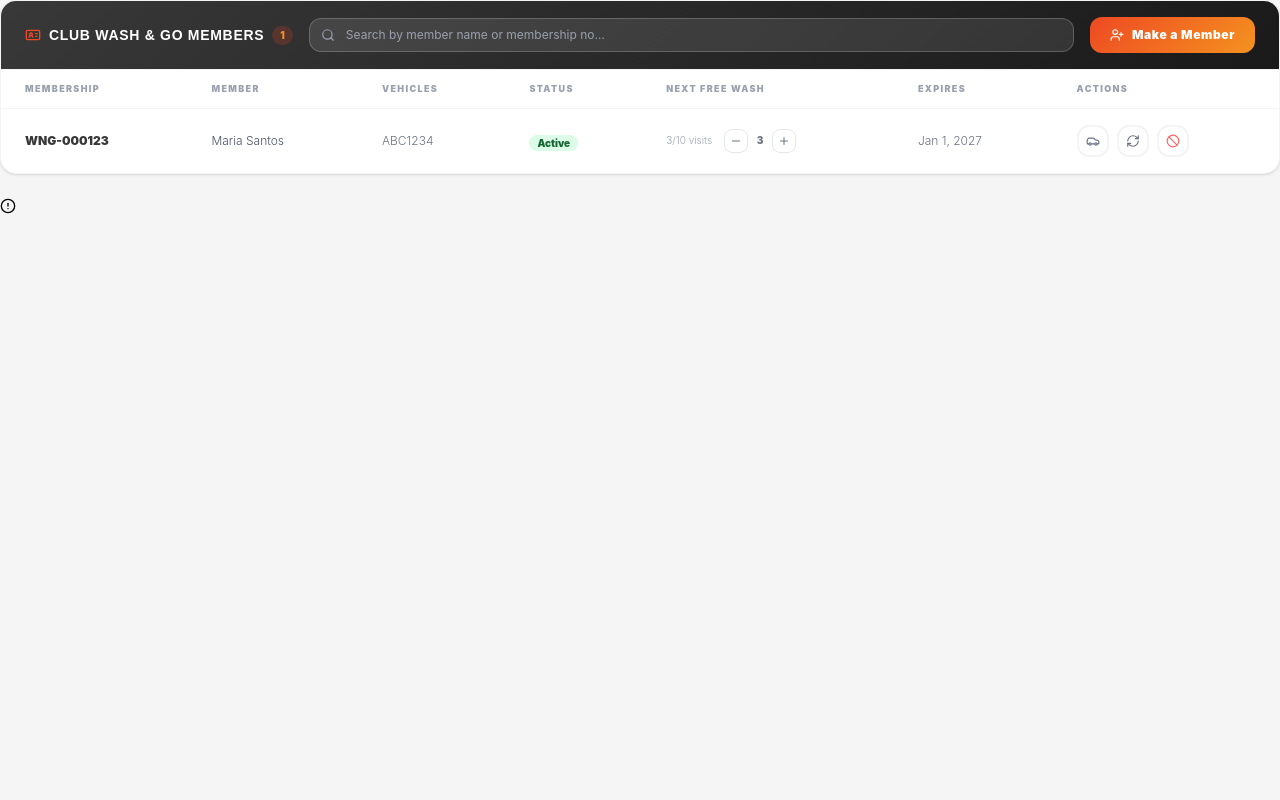
Test: MembershipsPanel (container) › does not cancel a membership if the reason is left blank
This screenshot has width=1280, height=800.
Expected: the text "WNG-000123" is shown, [1,108,187,172]
Click the button titled "Cancel membership" at x=1173, y=140, box [1157,124,1189,156]
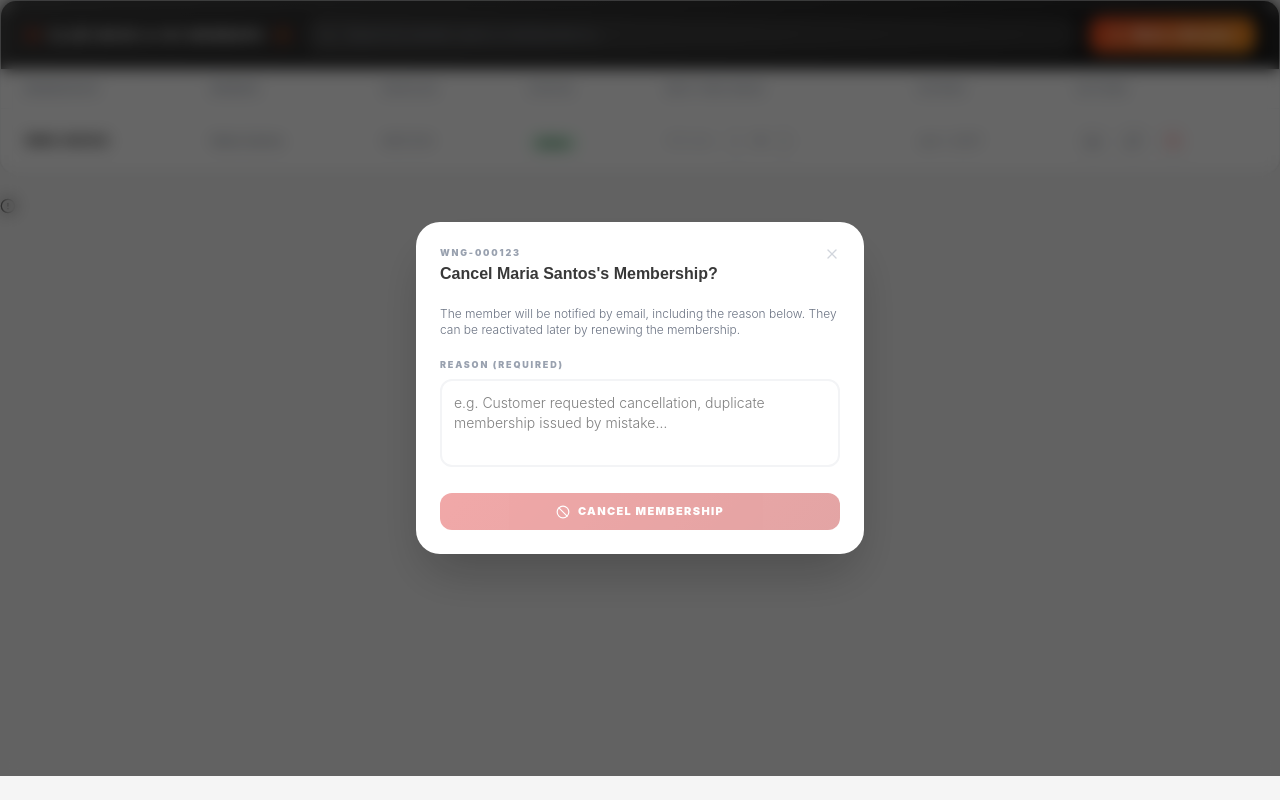
Now the heading "Cancel Maria Santos's Membership?" is shown, box [440,262,718,286]
Now the button "Cancel Membership" is disabled, box [440,493,840,530]
